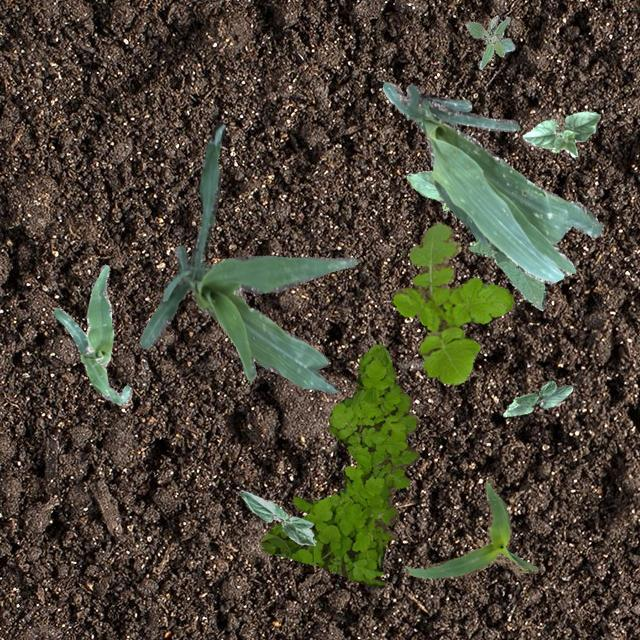crop: (140, 120, 356, 392), (380, 81, 602, 282), (402, 477, 536, 578), (52, 264, 132, 406), (468, 236, 544, 308), (238, 490, 316, 544), (522, 110, 600, 156), (502, 380, 572, 416), (406, 170, 450, 210)
weed: (260, 343, 418, 588), (392, 220, 512, 384), (464, 16, 514, 68)
